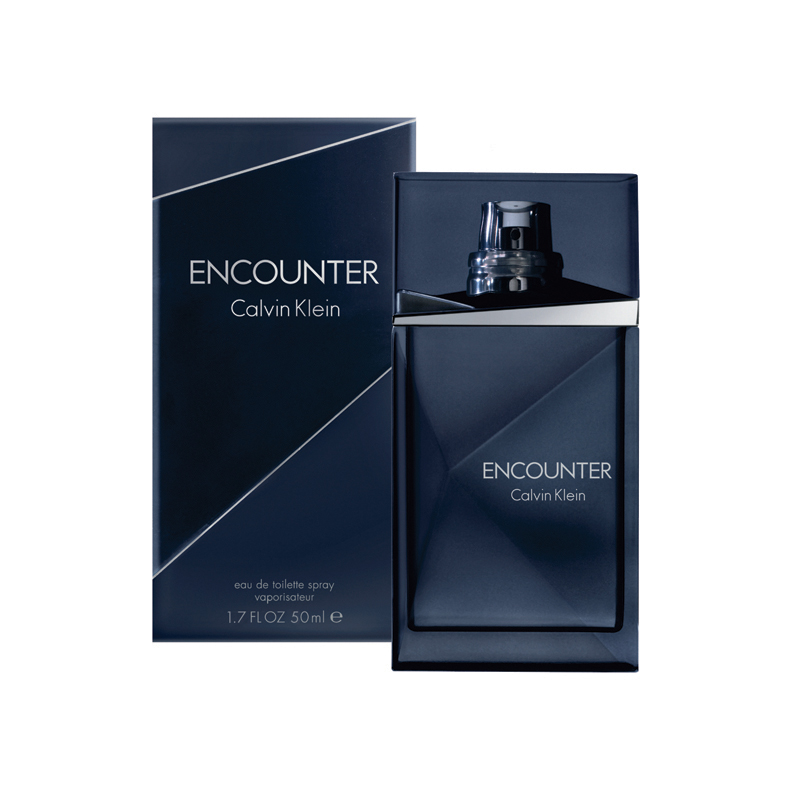Calvin Klein: (215, 293, 355, 323), (504, 479, 597, 513)
